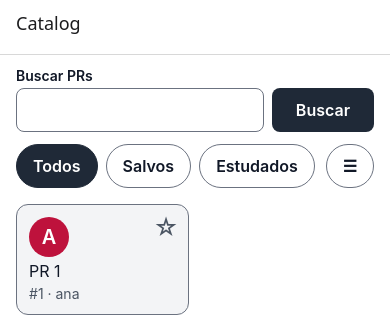
Scenario: C32: a search without results says so and names the term
Check: the button with test id "catalog.card.0" is shown, box [17,205,188,314]
Step 1. Type "zzzqqq" into the field named "Buscar PRs" → [140, 110], box [16,88,264,132]
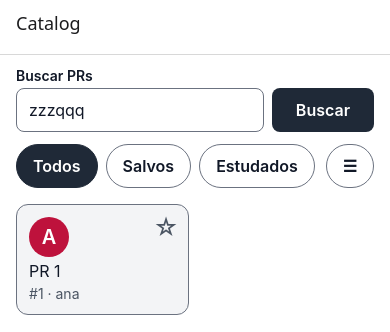
Step 2. Click the button with test id "catalog.search-submit" → [323, 110], box [272,88,374,132]
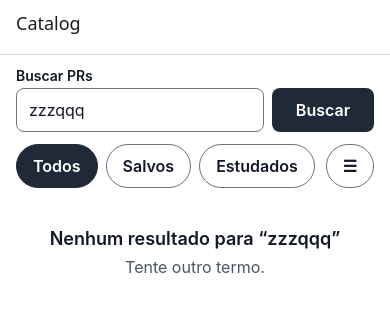
Check: the text "Nenhum resultado para “zzzqqq”" is shown, box [50,228,340,249]
Check: the text "Tente outro termo." is shown, box [125,257,265,277]
